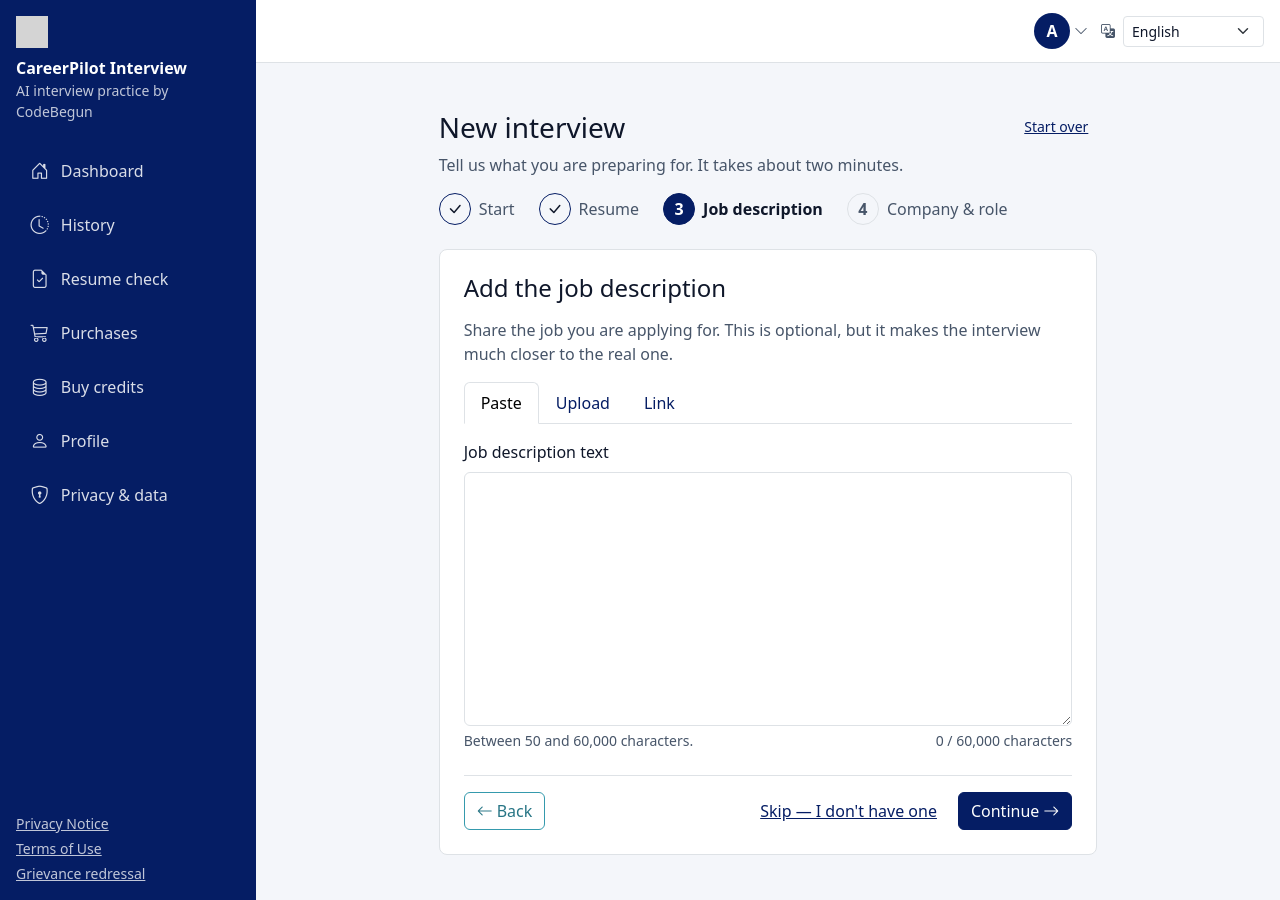
new interview wizard › requires a pasted JD to be long enough
Type "Too short" into the text box labelled "Job description text" at (768, 599), box [464, 472, 1072, 726]
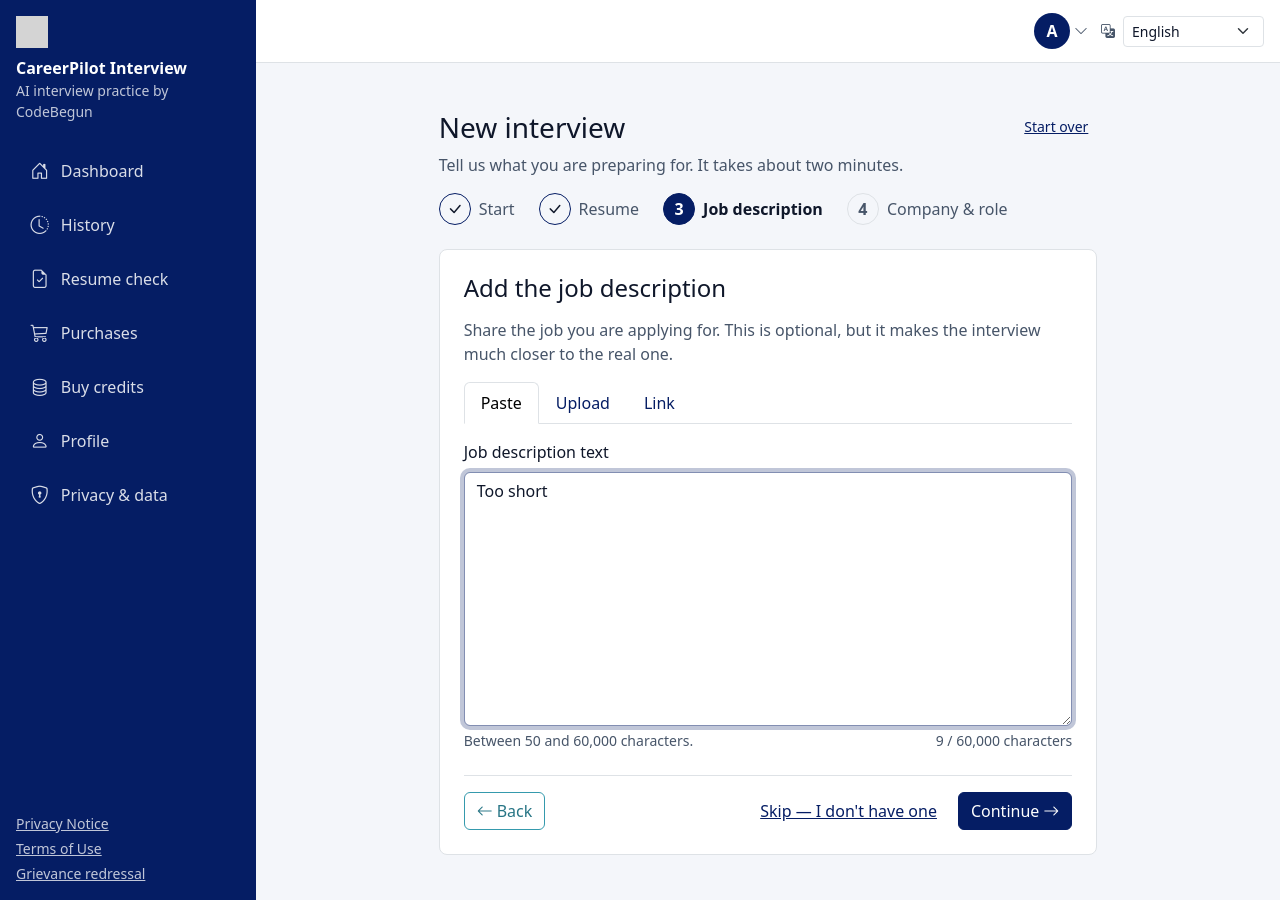
Click the button "Continue" at (1015, 811), box [958, 792, 1072, 830]
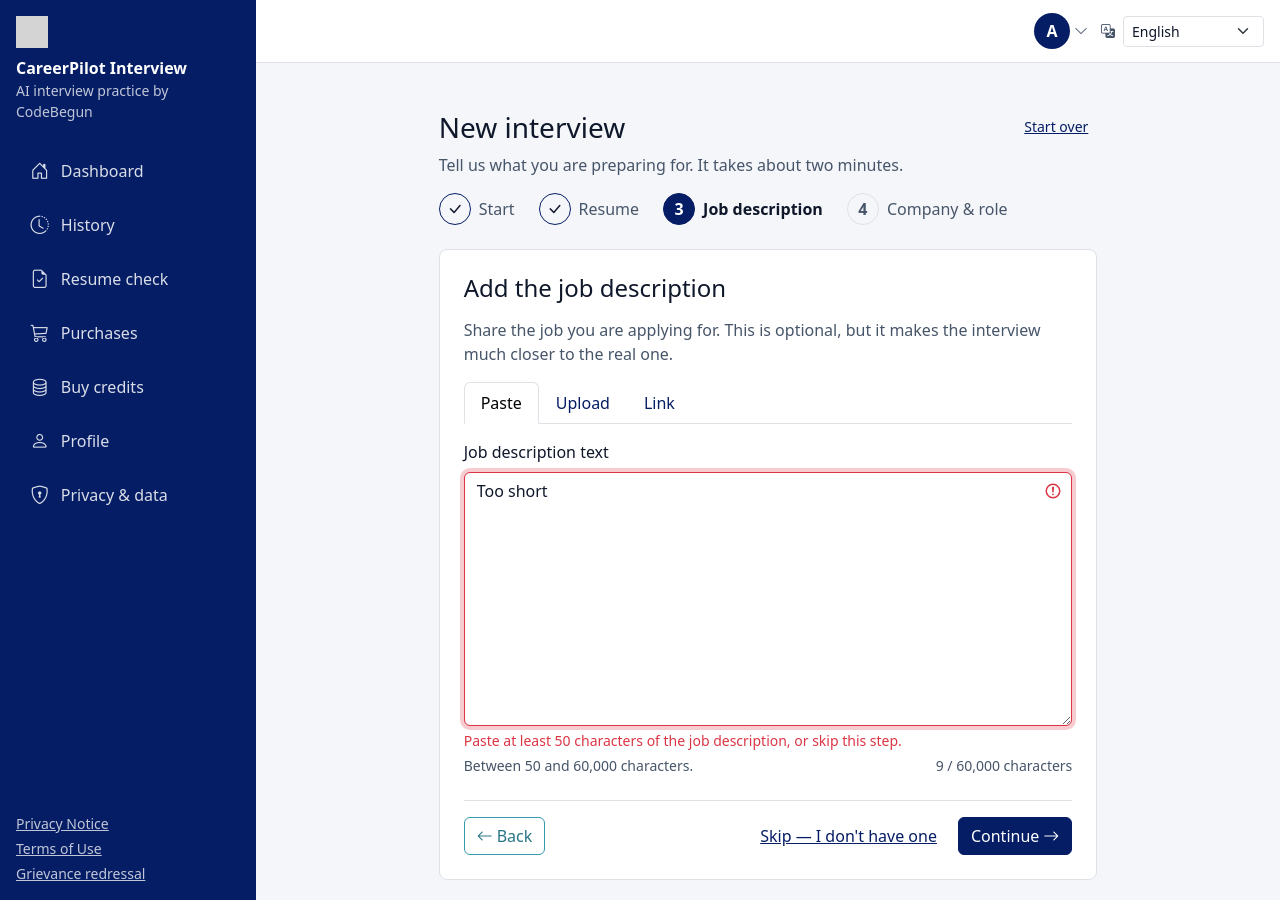
Result: the message reads "Paste at least 50 characters of the job description, or skip this step." at [464, 731, 902, 750]
